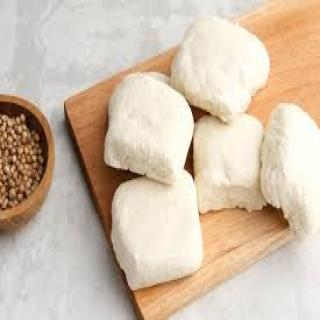Tahu: (90, 9, 320, 305)
